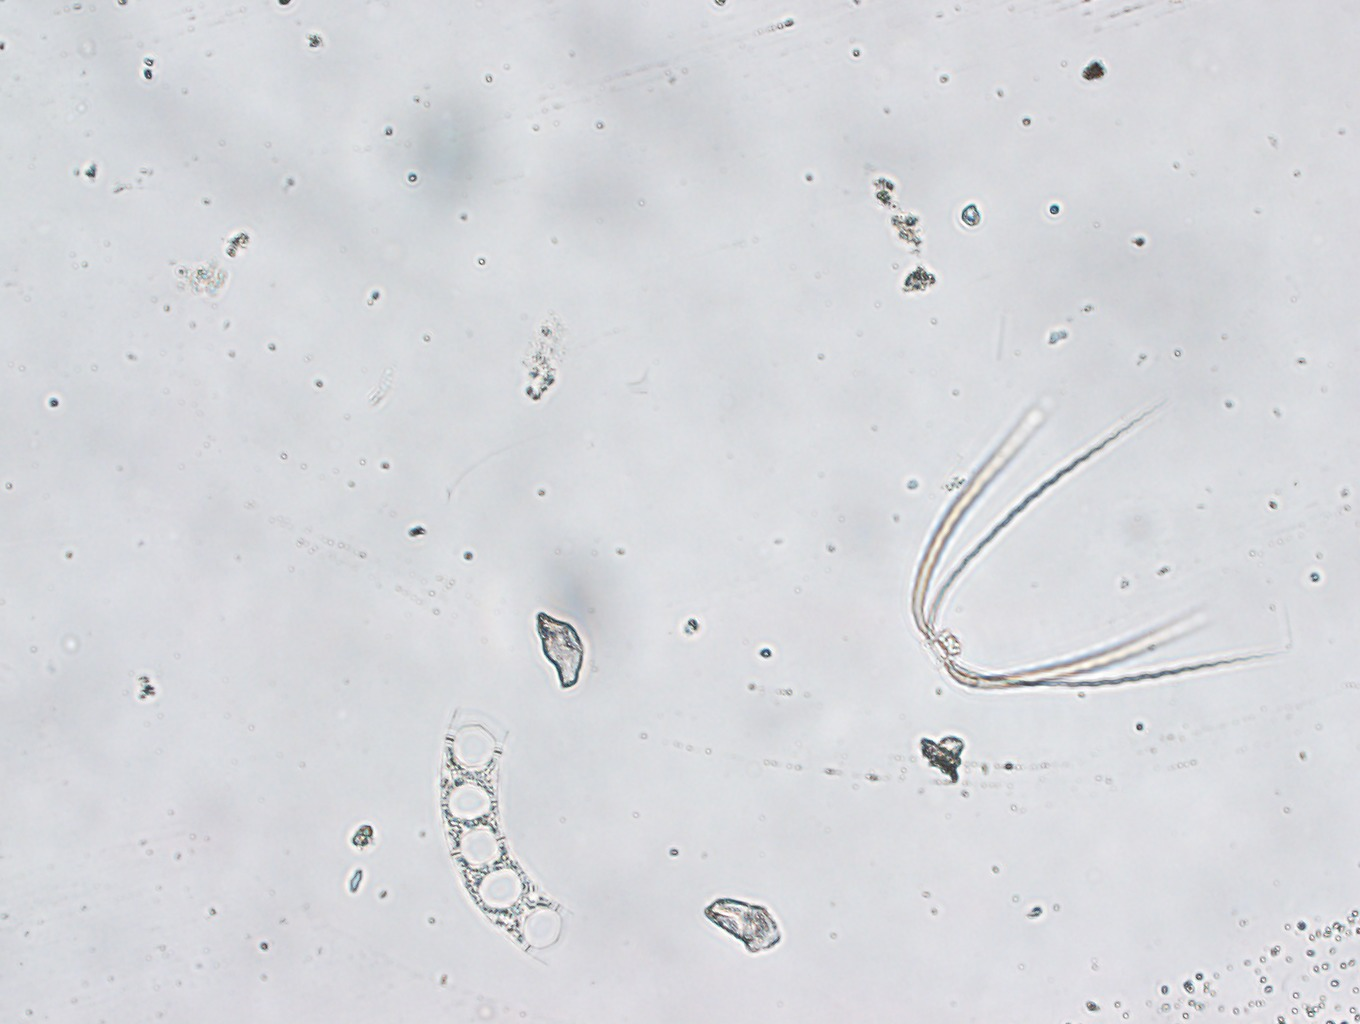chaetoceros: (910, 399, 1284, 691)
eucampia: (436, 703, 572, 964)
